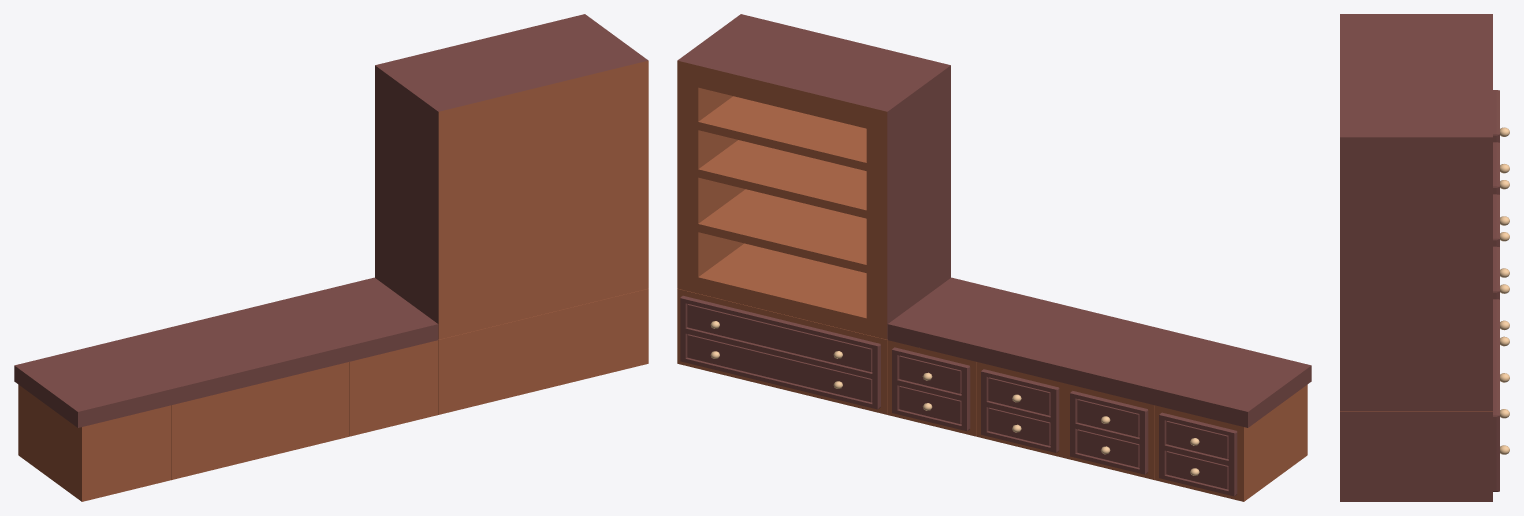
Rendered from bancadasv2.fbx.
The picture shows the model from 3 angles, left to right: view 1: azimuth 30°, elevation 25°; view 2: azimuth 150°, elevation 25°; view 3: azimuth 270°, elevation 25°; orthographic projection. The views are drawn at different scales.
Parts seen in each view (by area): view 1: Plane.087; view 2: Plane.087; view 3: Plane.087.
Part boxes in pixels (left/top/right/bottom): Plane.087: left=14, top=14, right=648, bottom=501; Plane.087: left=677, top=14, right=1311, bottom=501; Plane.087: left=1340, top=14, right=1509, bottom=501.
Size of the model in its own units: 8.25 by 4.19 by 1.77.
